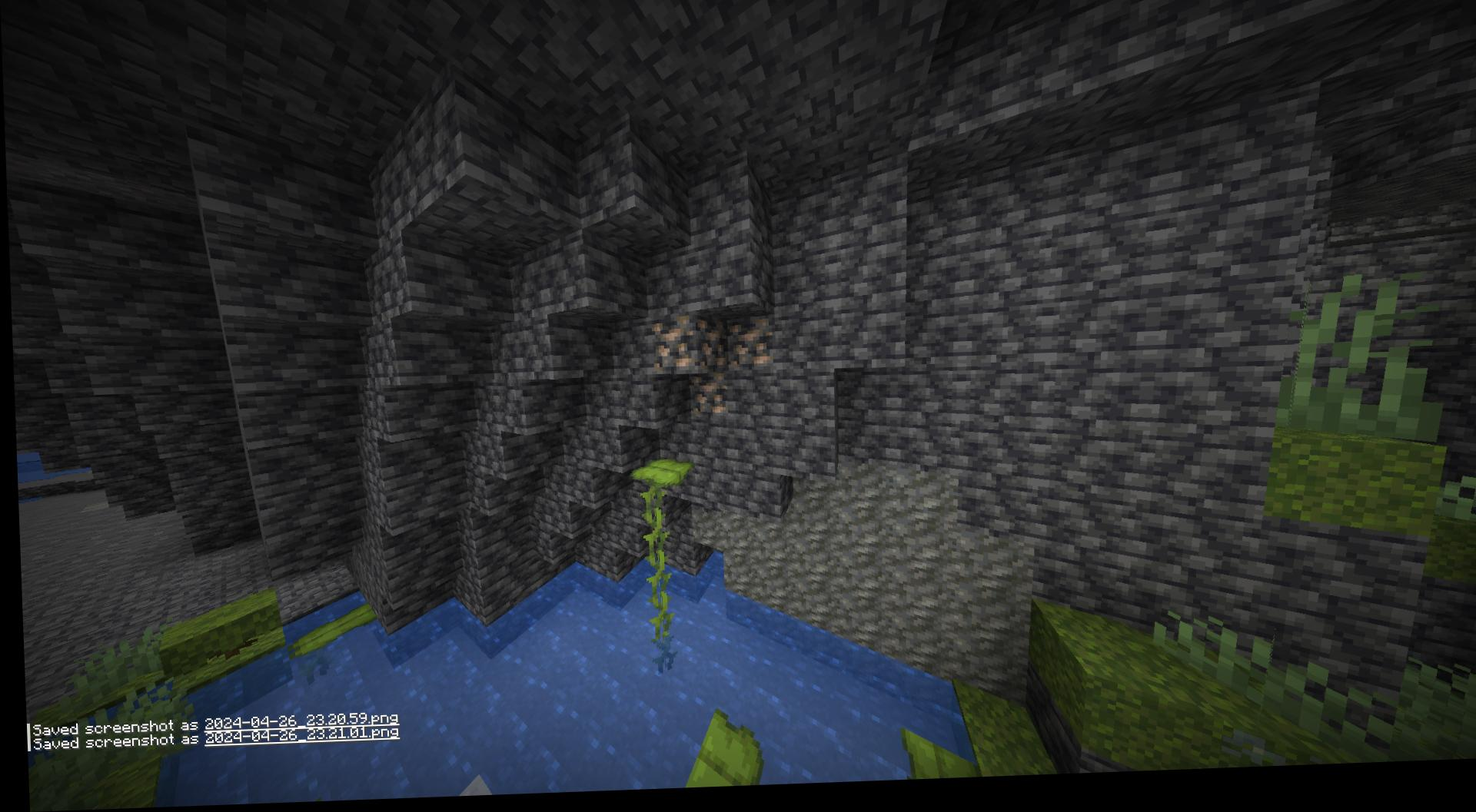iron ore: (645, 318, 721, 377), (719, 323, 771, 374), (683, 377, 727, 421)
